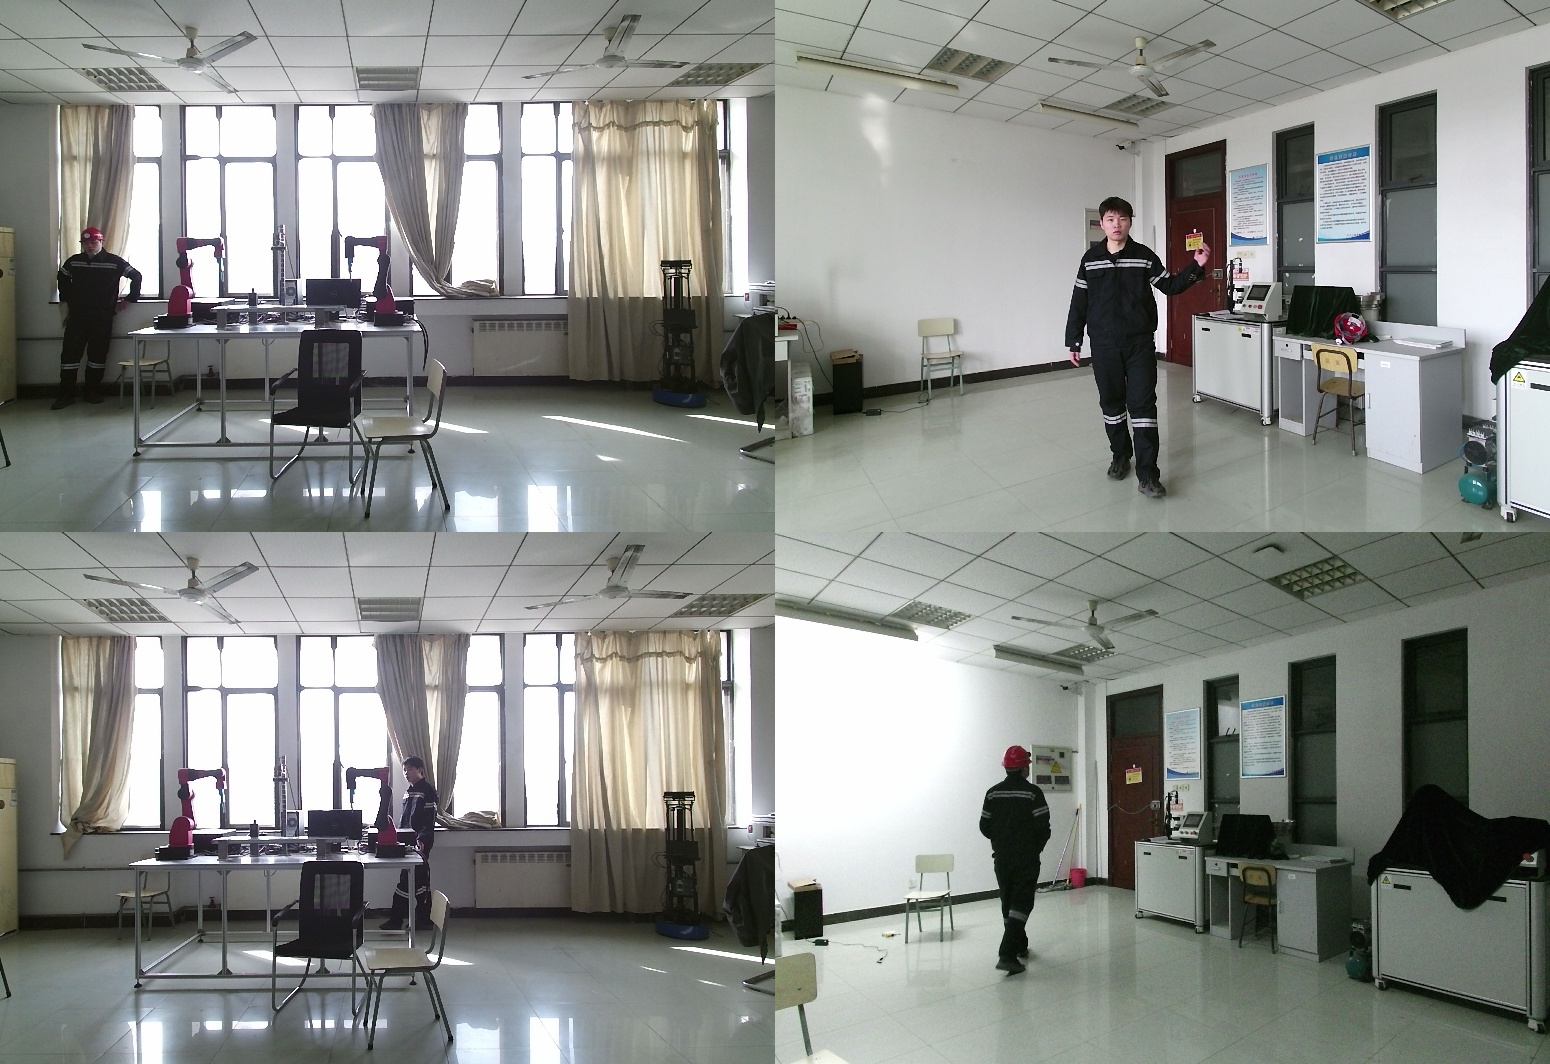person: (1047, 197, 1231, 492), (974, 746, 1061, 980), (53, 226, 142, 404), (380, 757, 445, 939)
